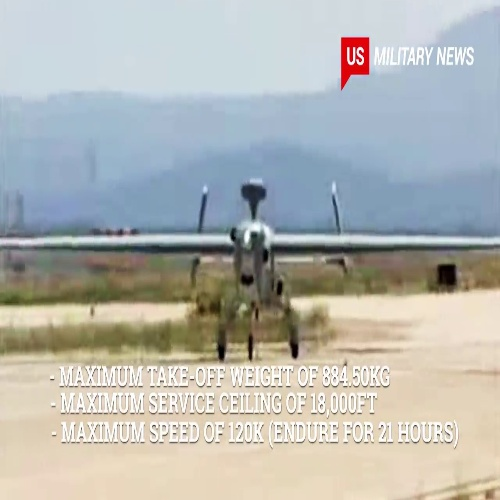uav113: (1, 178, 500, 361)
